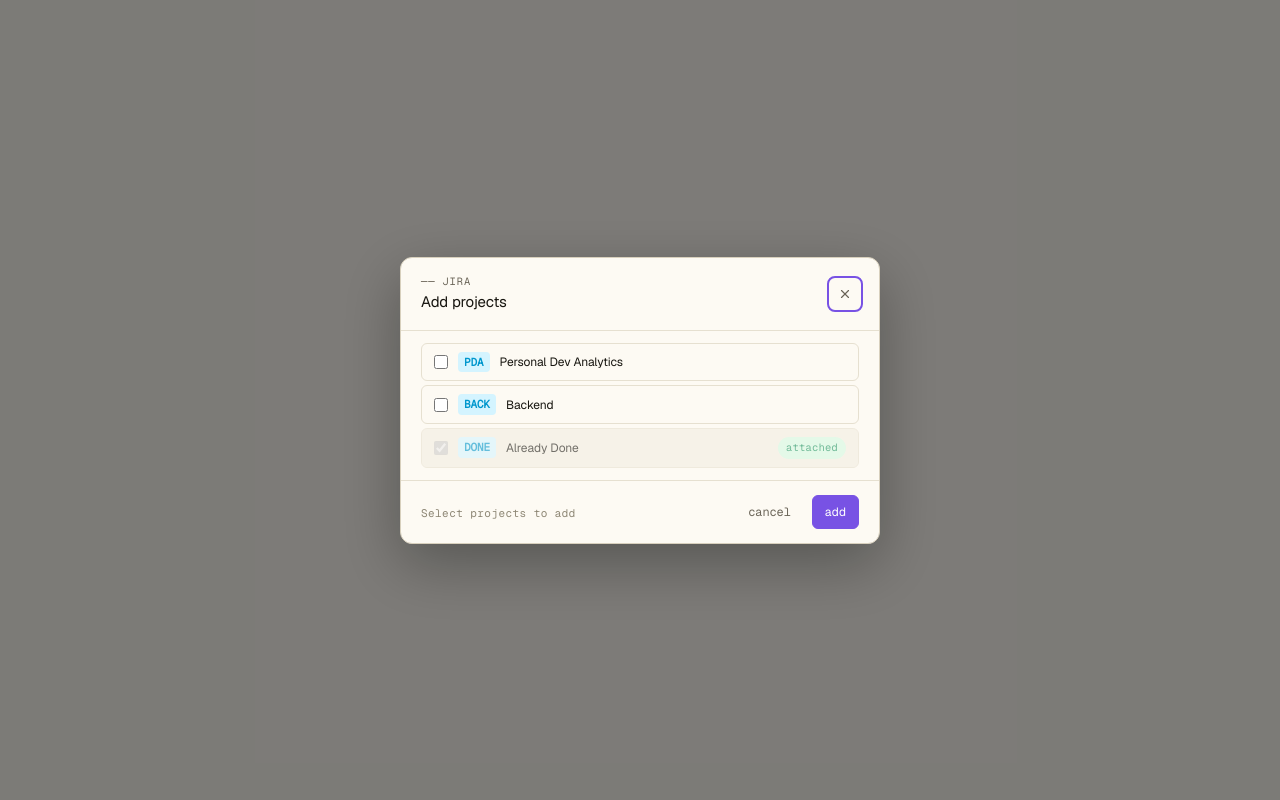
DiscoverProjectsModal › shows error message when attach fails
This screenshot has width=1280, height=800.
Click the checkbox named "Select PDA" at (441, 362), box top-left (434, 355), bottom-right (448, 369)
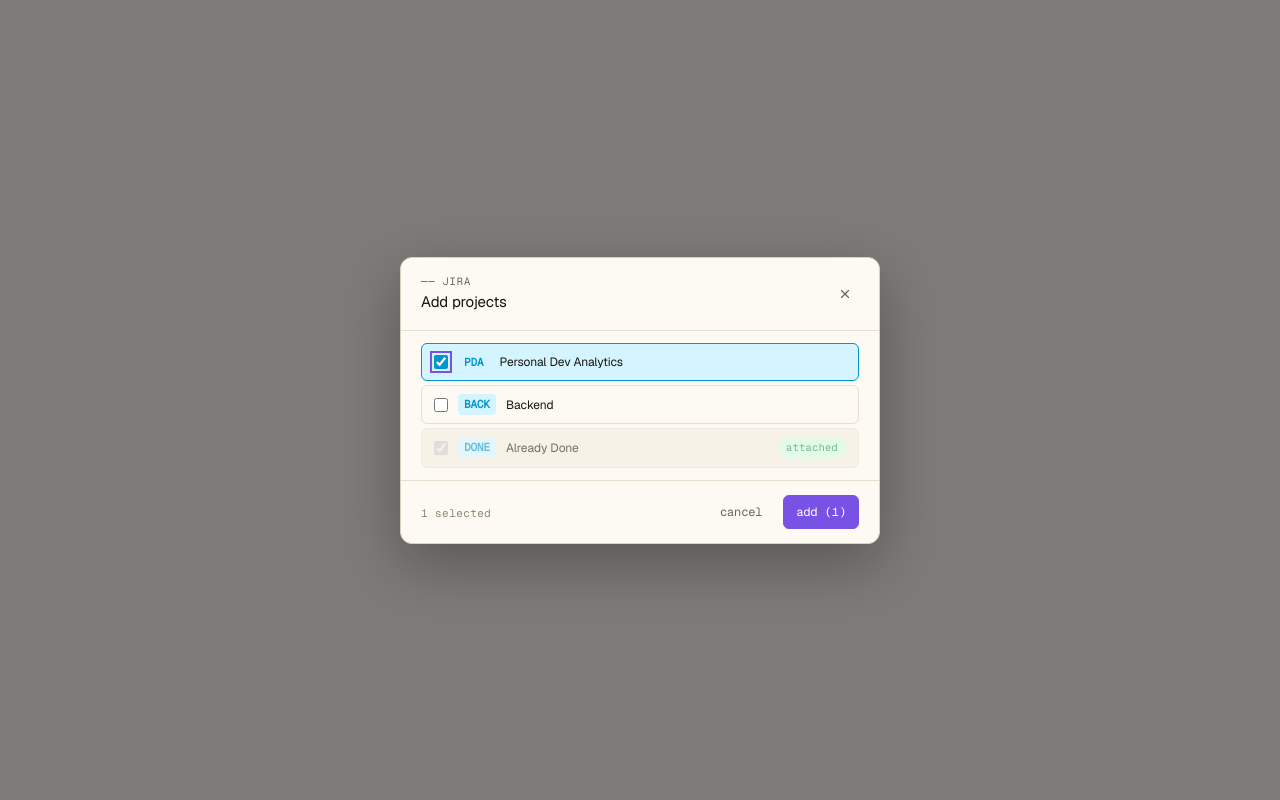
Click the button "add (1)" at (821, 512), box top-left (783, 494), bottom-right (859, 528)
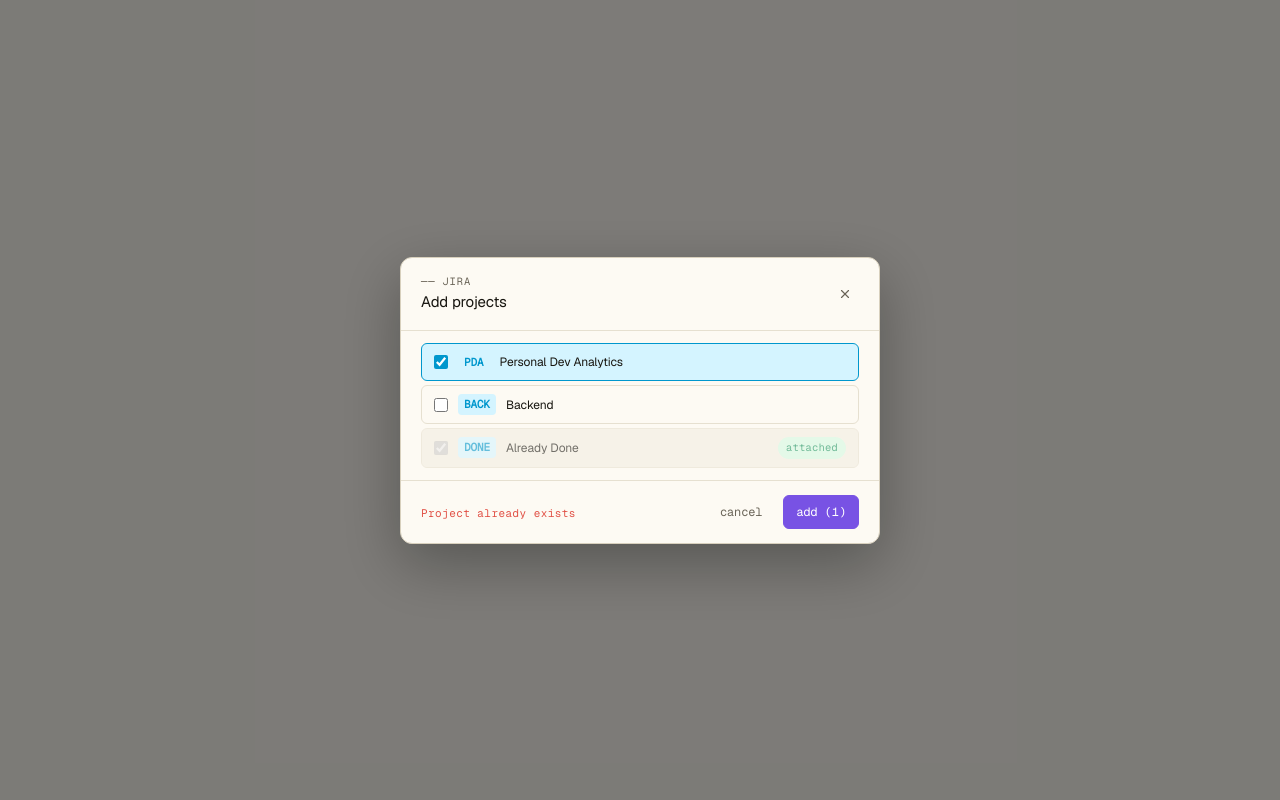
Expected: the text "Project already exists" is shown, top-left (421, 506), bottom-right (576, 520)
